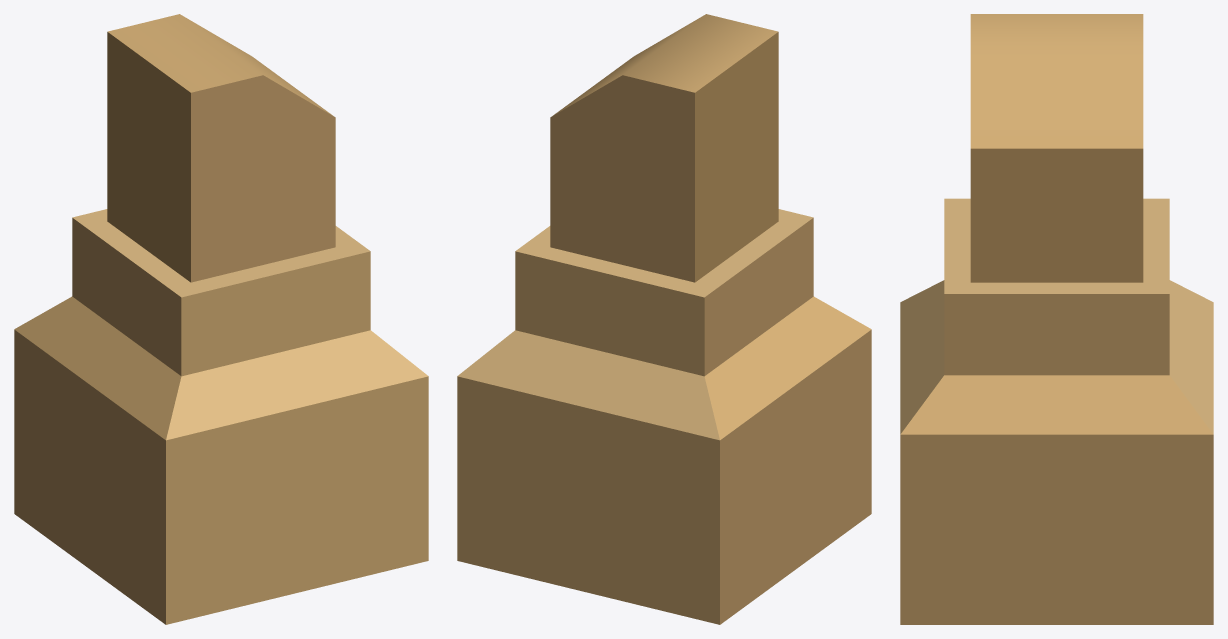
The model's file is ST_Env_Pillar_04.fbx.
3 views of the same model, side by side, from view 1: azimuth 30°, elevation 25°; view 2: azimuth 150°, elevation 25°; view 3: azimuth 270°, elevation 25° (orthographic). The views are drawn at different scales.
Visible parts, largest first — view 1: ST_Env_Pillar_04; view 2: ST_Env_Pillar_04; view 3: ST_Env_Pillar_04.
Boxes of the visible parts, <box> form: ST_Env_Pillar_04: <box>14,14,428,624</box>; ST_Env_Pillar_04: <box>457,14,871,624</box>; ST_Env_Pillar_04: <box>900,14,1213,624</box>.
Bounding box in the file's own units: 1 × 1.79 × 1.
